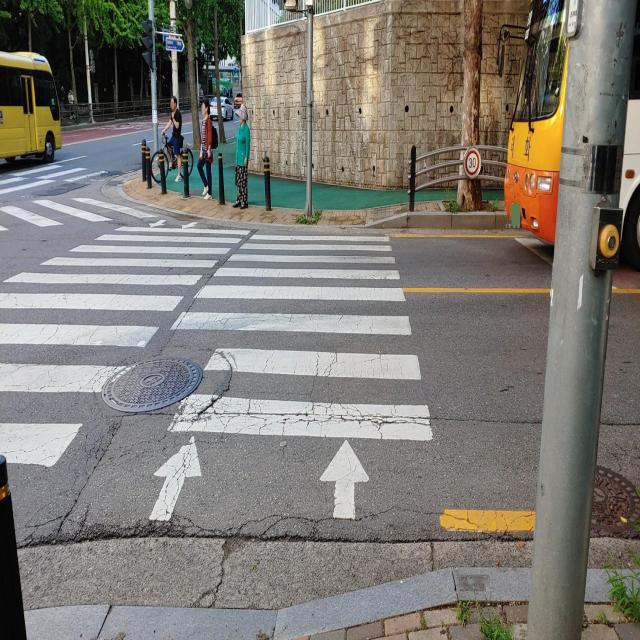횡단보도: (0, 214, 436, 527)
